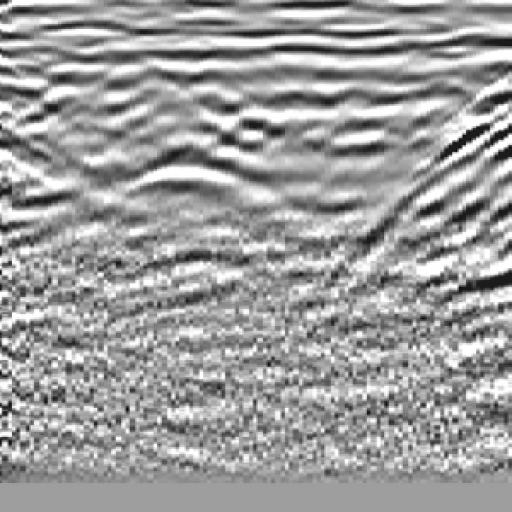metalic: (109, 121, 273, 242)
nonmetalic: (369, 31, 512, 286)
